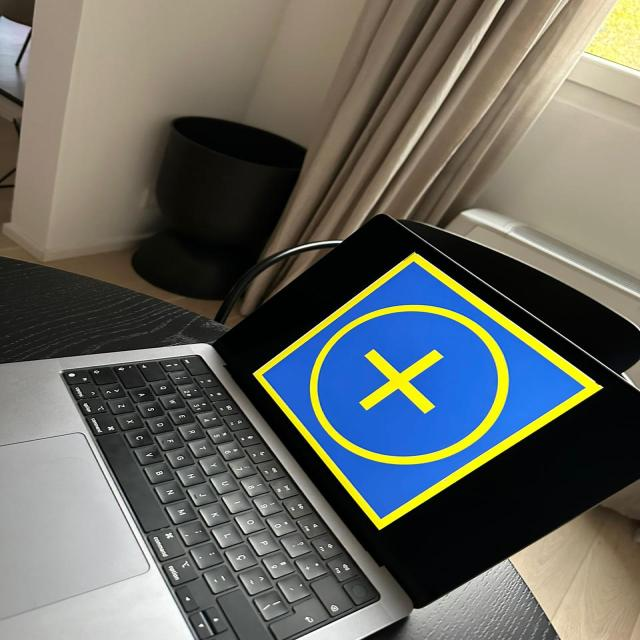Marker: (240, 230, 625, 535)
